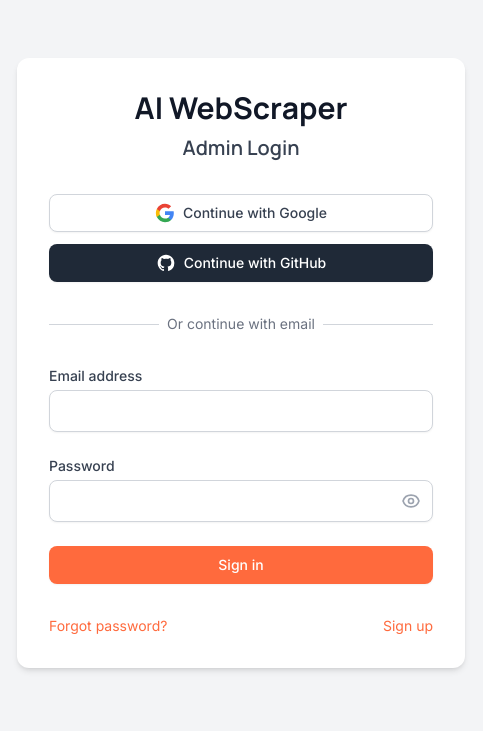
LoginPage › displays error message on login failure
Type "wrong@example.com" into the field labelled "Email address" at (241, 411), box [49,390,433,432]
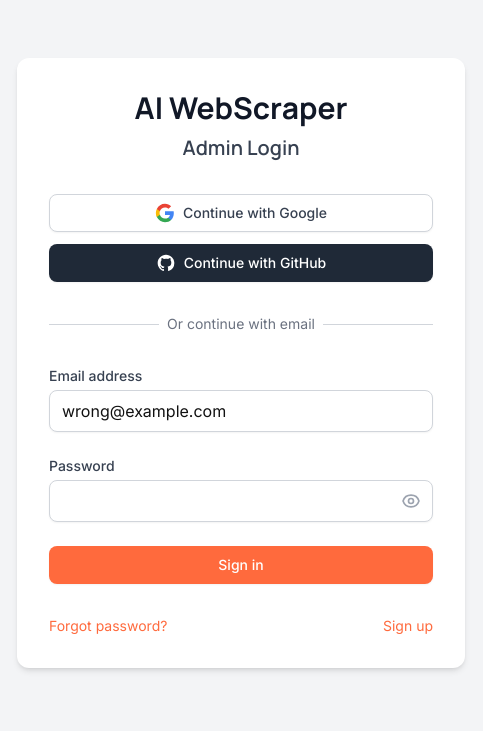
Type "badpass" into the password field labelled "Password" at (241, 501), box [49,480,433,522]
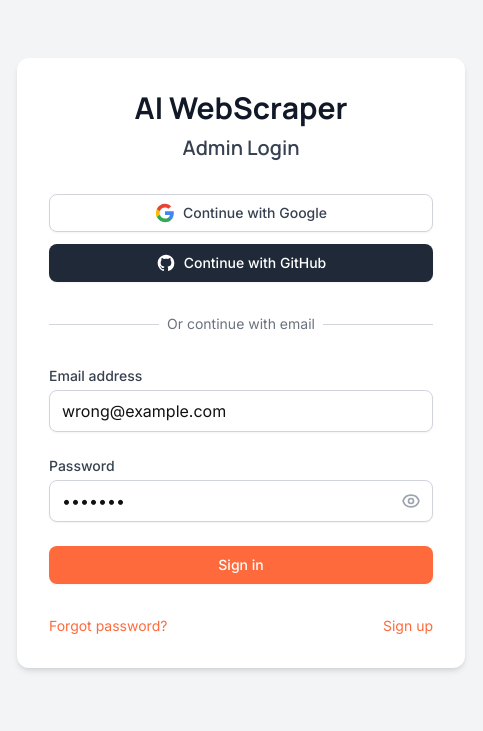
Click the button "Sign in" at (241, 565), box [49,546,433,584]
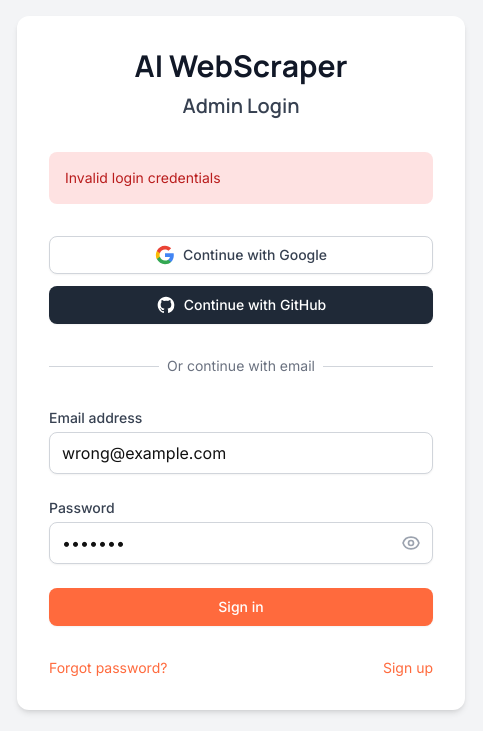
Now the text "Invalid login credentials" is shown, box [49,152,433,204]
